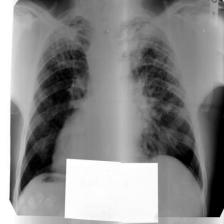tuberculosis: (13, 8, 211, 209)
